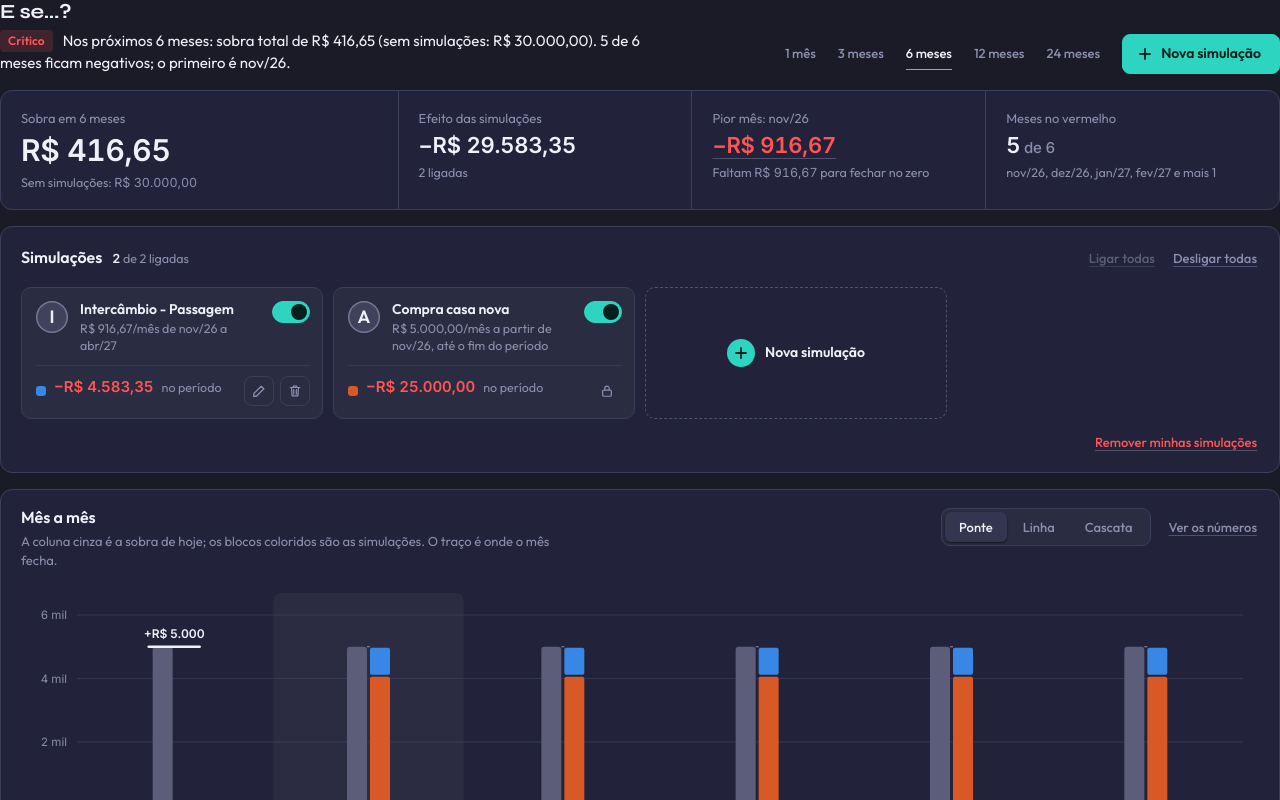
WhatIfView: editar e excluir pelo cartão › Excluir confirmado faz DELETE e o cartão some
This screenshot has width=1280, height=800.
Step 1. Click the button named "Excluir Intercâmbio - Passagem" → click(295, 391), box [280, 376, 310, 406]
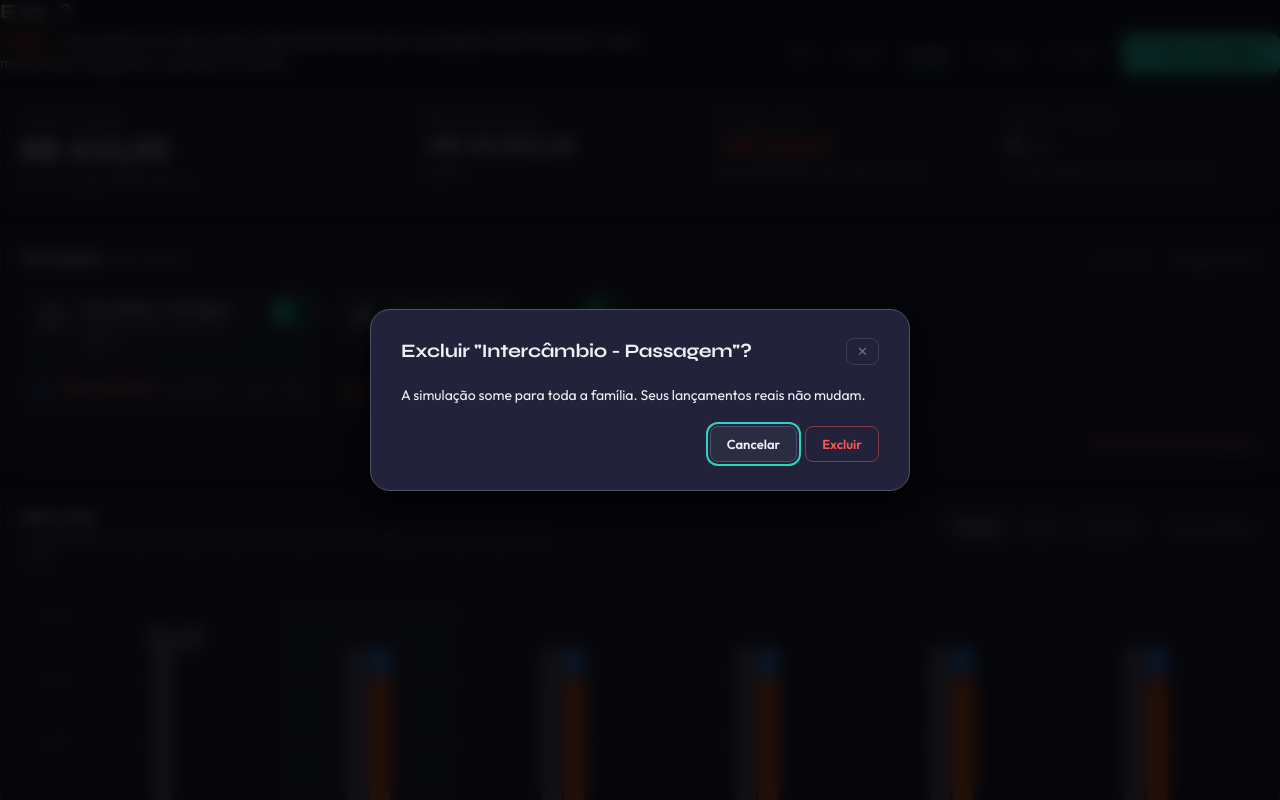
Step 2. Click the button "Excluir" → click(842, 444), box [805, 426, 879, 462]
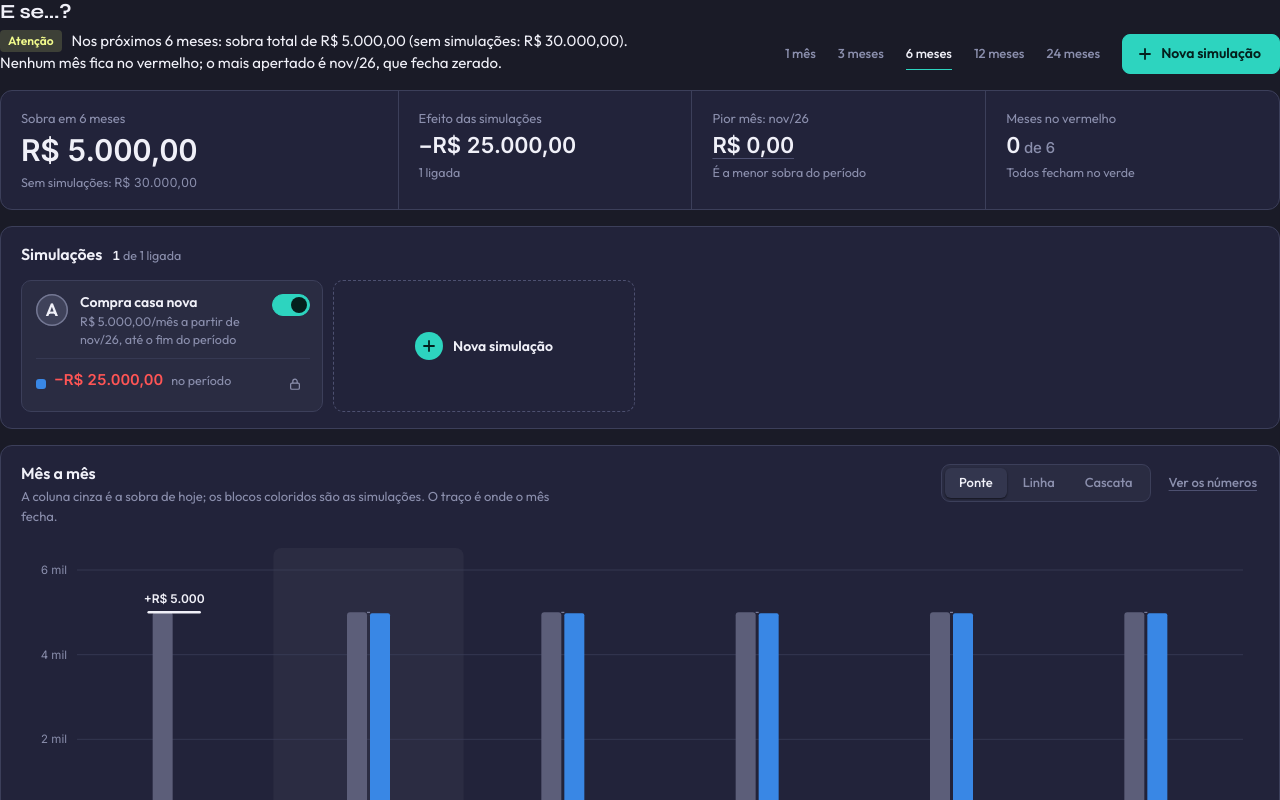
Result: no buttons "Intercâmbio - Passagem" are shown
